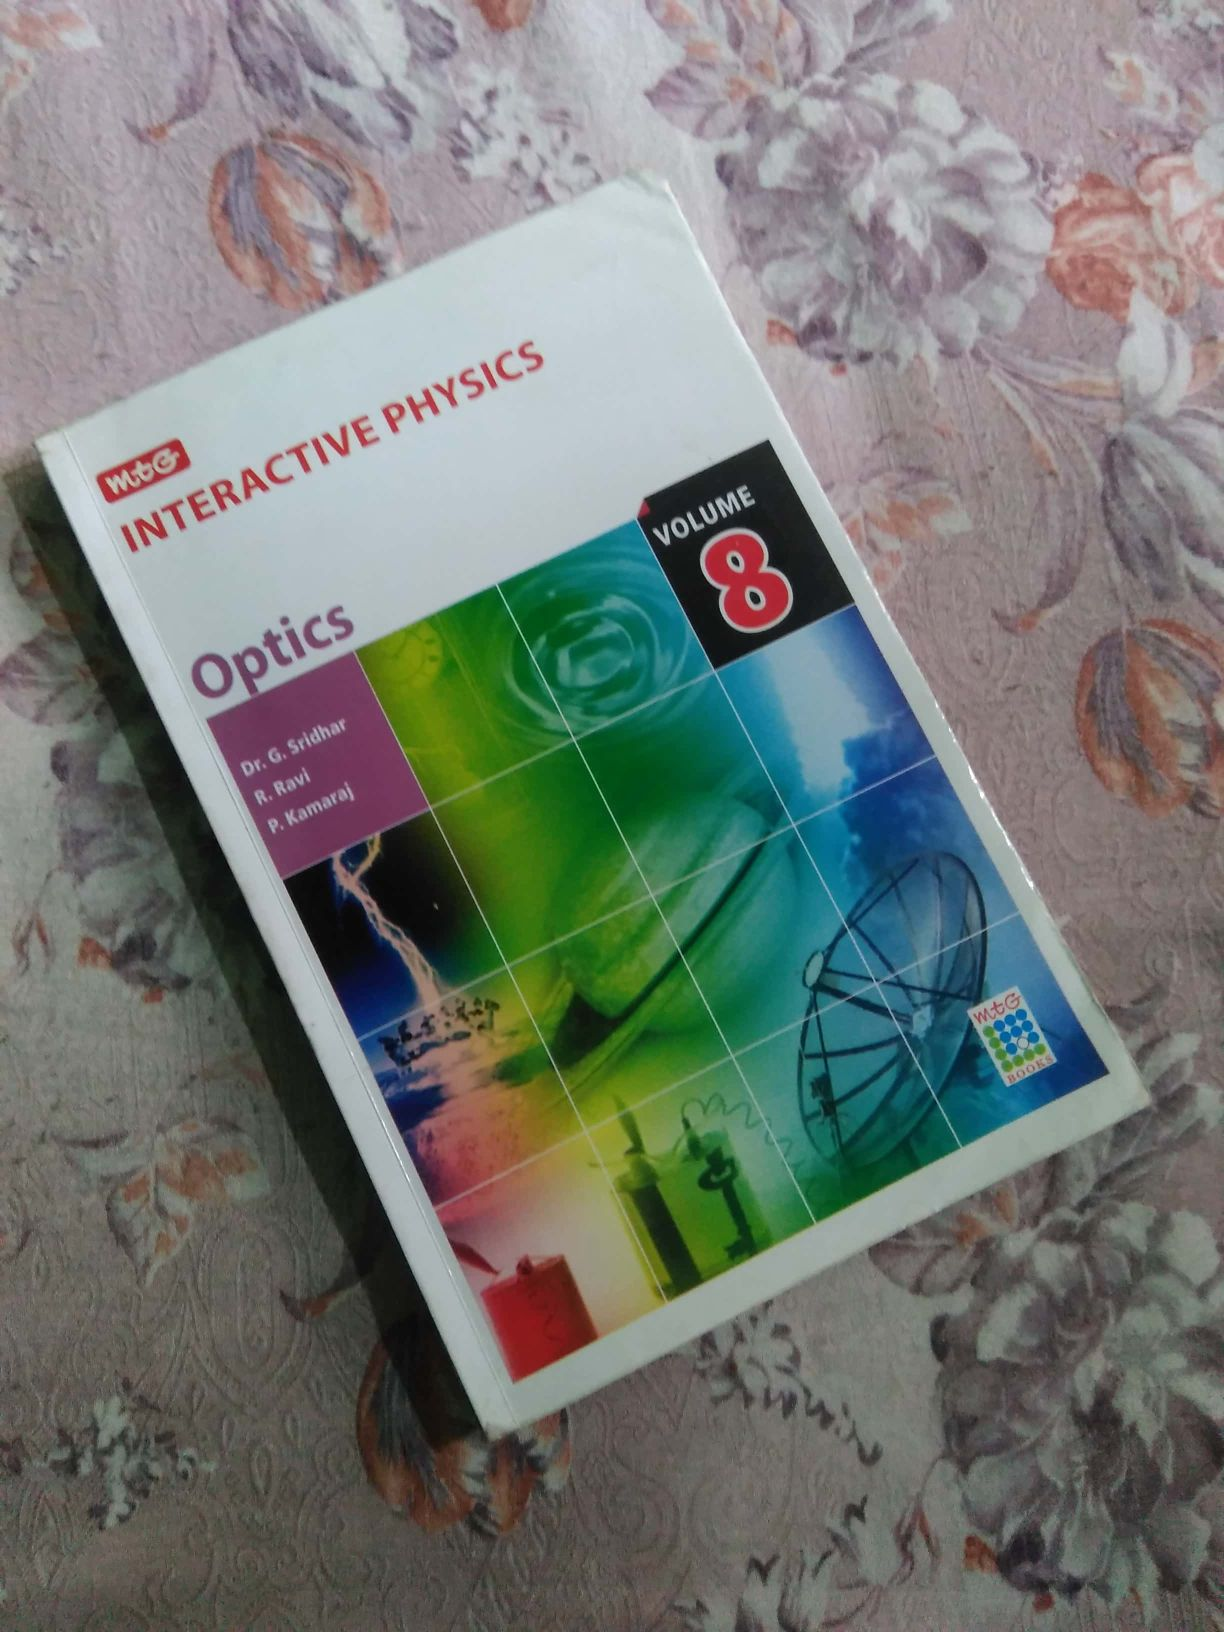optics: (10, 236, 1224, 1444)
